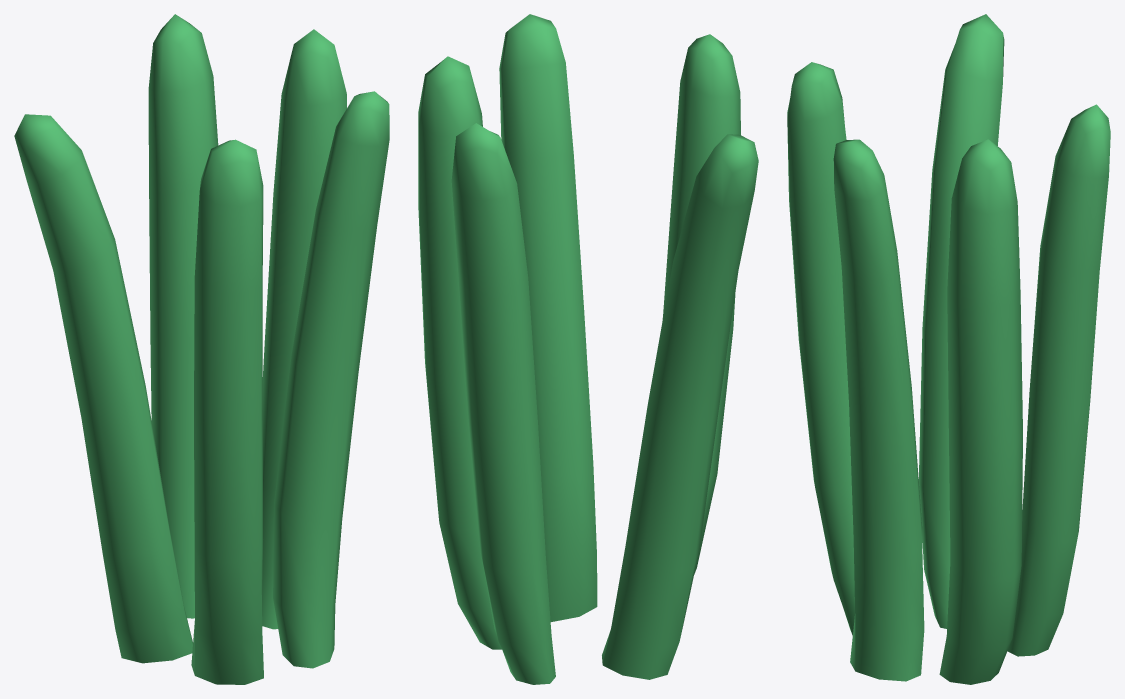
File: Grass_B_04.fbx
The picture shows the model from 3 angles, left to right: view 1: azimuth 30°, elevation 25°; view 2: azimuth 150°, elevation 25°; view 3: azimuth 270°, elevation 25°; orthographic projection. The views are drawn at different scales.
Visible parts, largest first — view 1: Grass_B_04_LOD0; view 2: Grass_B_04_LOD0; view 3: Grass_B_04_LOD0.
Part boxes in pixels (x1,y1,x2,y2): Grass_B_04_LOD0: (14,14,389,684); Grass_B_04_LOD0: (418,14,758,684); Grass_B_04_LOD0: (787,14,1110,684).
Size of what is drawn, in the model's own units: 330 by 547 by 288.
